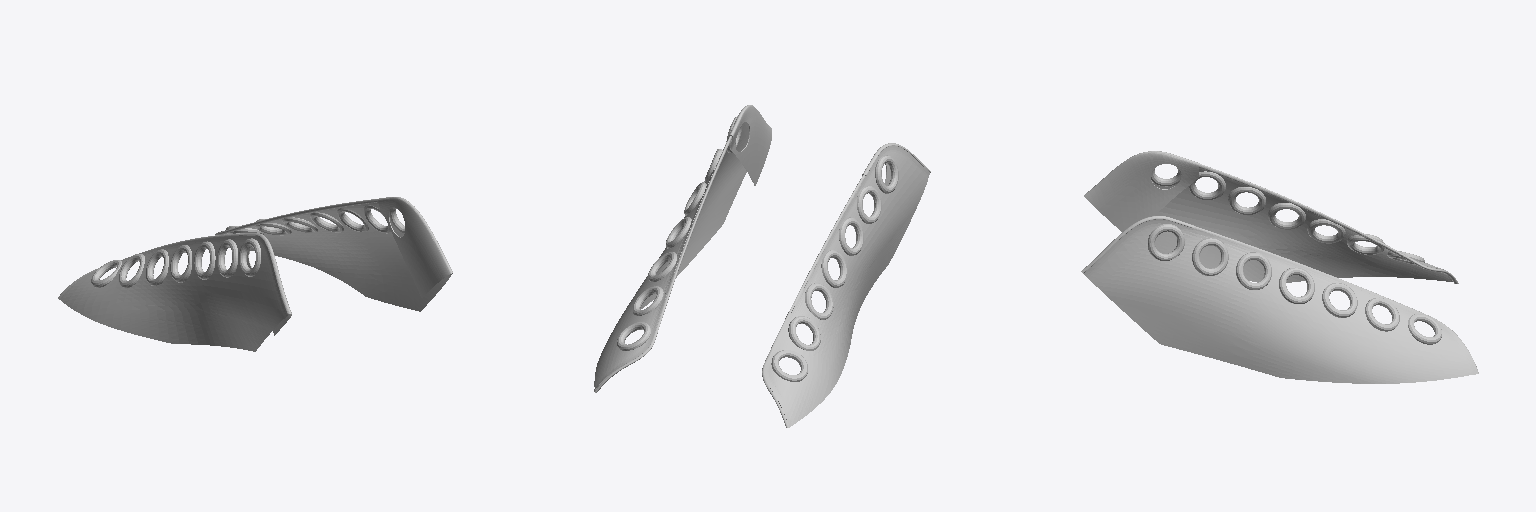
File: stansmith_simplified_upper.obj
3 views of the same model, side by side, from view 1: azimuth 30°, elevation 25°; view 2: azimuth 150°, elevation 25°; view 3: azimuth 270°, elevation 25° (orthographic).
Parts seen in each view (by area): view 1: Stan_Smith_Simplified_Upper.Ori.011, Stan_Smith_Simplified_Upper.Ori.008; view 2: Stan_Smith_Simplified_Upper.Ori.011, Stan_Smith_Simplified_Upper.Ori.008; view 3: Stan_Smith_Simplified_Upper.Ori.008, Stan_Smith_Simplified_Upper.Ori.011.
Boxes of the visible parts, <box> form: Stan_Smith_Simplified_Upper.Ori.011: <box>58,233,291,351</box>; Stan_Smith_Simplified_Upper.Ori.008: <box>215,197,452,311</box>; Stan_Smith_Simplified_Upper.Ori.011: <box>762,143,930,427</box>; Stan_Smith_Simplified_Upper.Ori.008: <box>594,105,771,392</box>; Stan_Smith_Simplified_Upper.Ori.008: <box>1081,216,1478,383</box>; Stan_Smith_Simplified_Upper.Ori.011: <box>1084,151,1458,283</box>.
Bounding box in the file's own units: 1.01 × 0.7002 × 1.55.